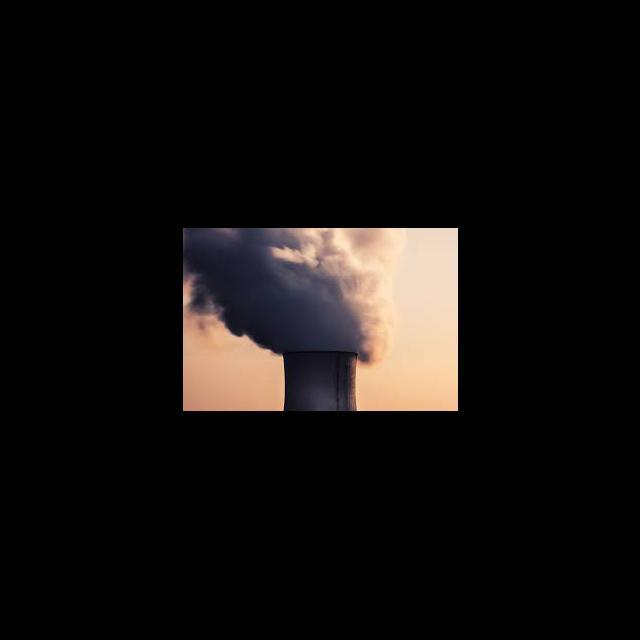Smoke: (230, 230, 396, 346)
